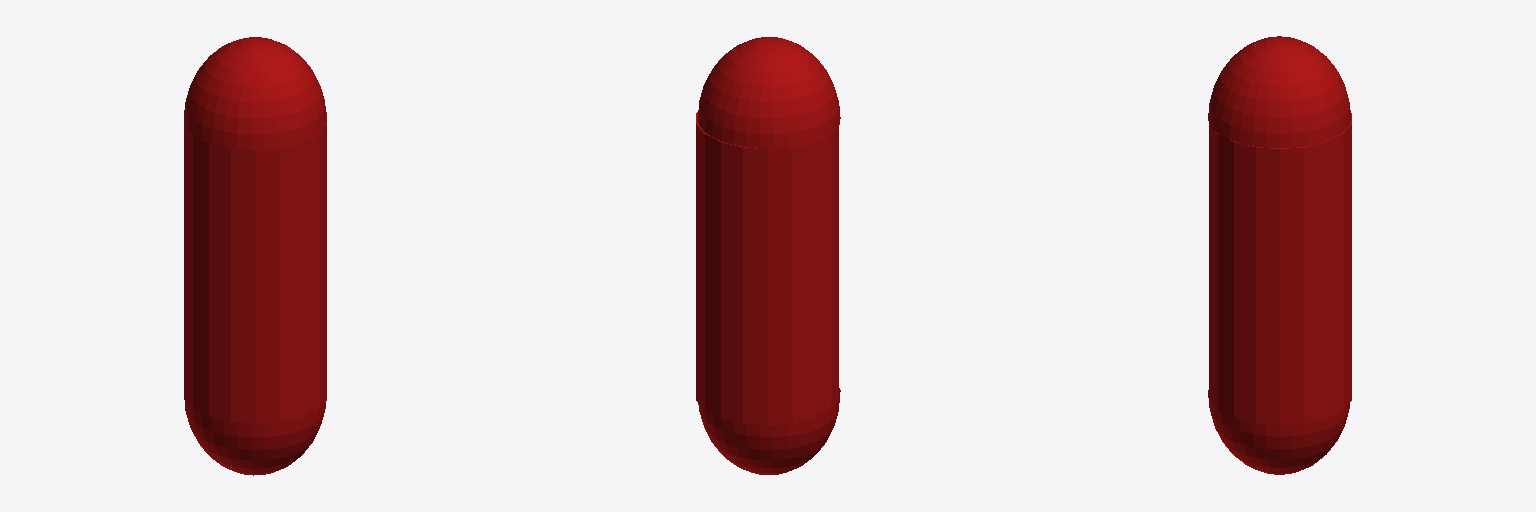
The model's file is E-bullet.obj.
The picture shows the model from 3 angles: view 1: azimuth 30°, elevation 25°; view 2: azimuth 150°, elevation 25°; view 3: azimuth 270°, elevation 25°; orthographic projection.
Visible parts, largest first — view 1: Cylinder001, Sphere001; view 2: Cylinder001, Sphere001; view 3: Cylinder001, Sphere001.
Part boxes in pixels (bbox=[...]): Cylinder001: bbox=[184, 112, 326, 424]; Sphere001: bbox=[184, 37, 326, 475]; Cylinder001: bbox=[696, 112, 838, 425]; Sphere001: bbox=[698, 37, 840, 474]; Cylinder001: bbox=[1209, 113, 1351, 424]; Sphere001: bbox=[1208, 36, 1350, 474].
Bounding box in the file's own units: 54.31 × 176 × 53.82.